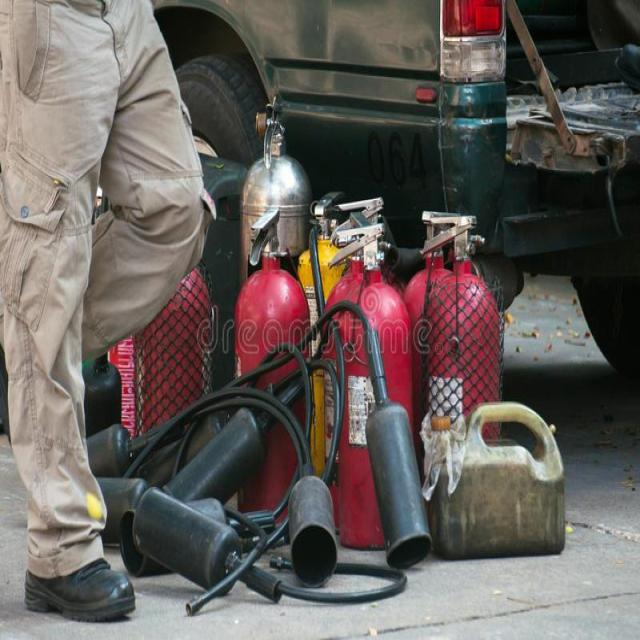fire_extinguisher: (229, 202, 337, 598), (323, 215, 432, 578), (241, 90, 319, 526), (137, 169, 220, 560), (417, 206, 518, 522), (290, 180, 354, 548)
